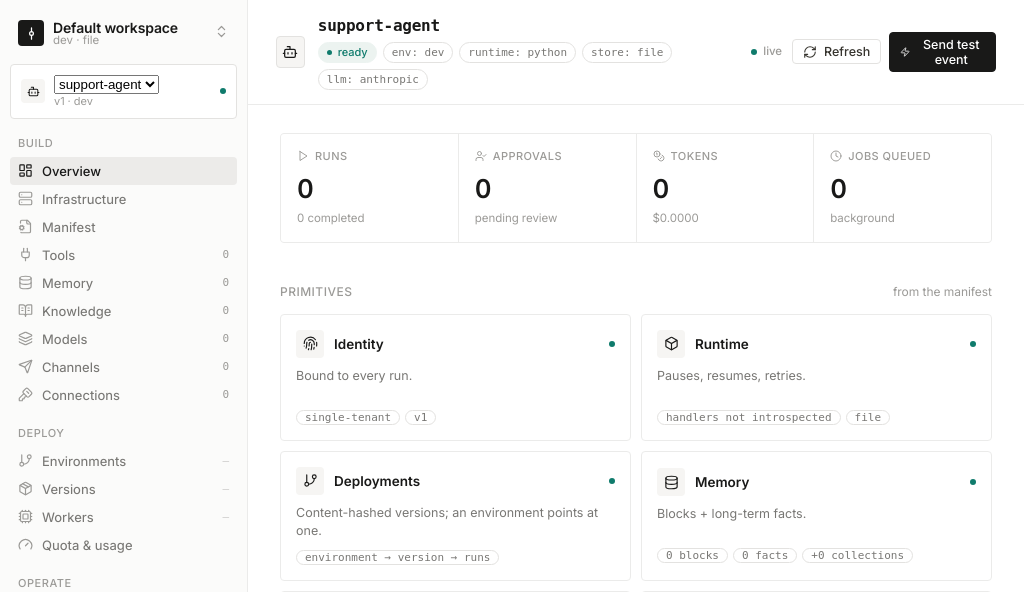
Test: the agent selector follows the operator (§5.14) › holds the new name immediately, without waiting for the runtime
The image size is (1024, 592).
Expected: the text "v1 · dev" is shown, [54,94,93,108]
Select "billing-agent" in the dropdown named "Agent": (106, 84) [54,75,159,94]
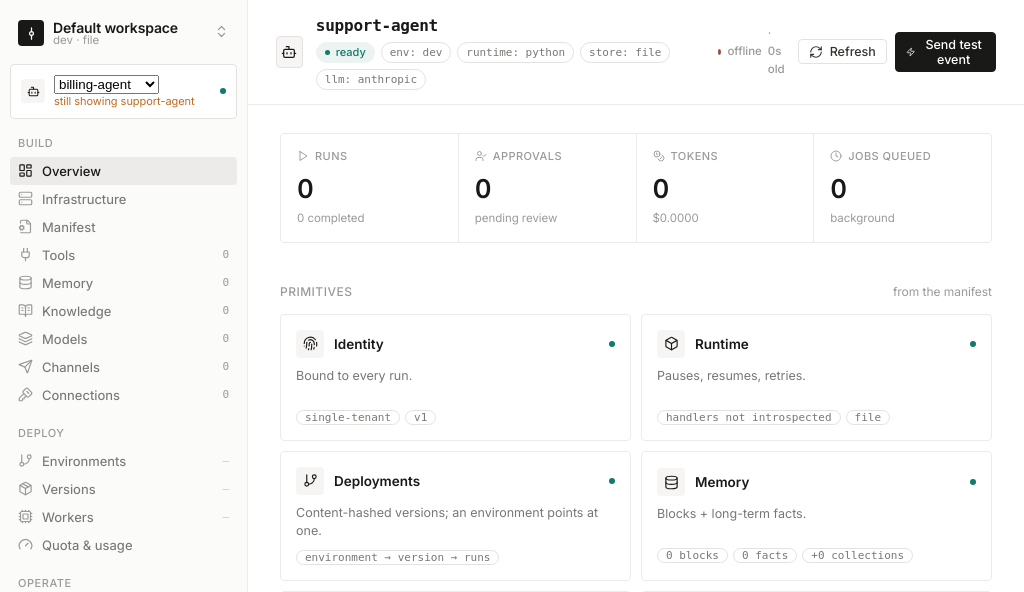
Result: the text "offline" is shown at [727,43,762,61]
